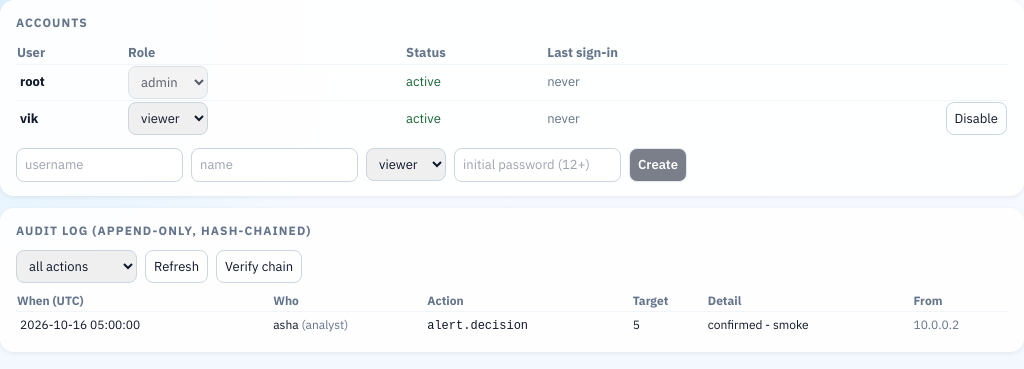
AdminPanel › lists accounts, creates one and reports a broken audit chain
Expected: the text "vik" is shown, [20,110,38,126]
Expected: the text "confirmed - smoke" is shown, [707,312,912,338]
Type "newbie" into the field named "New username". click: (100, 165)
box: [16,148,183,182]
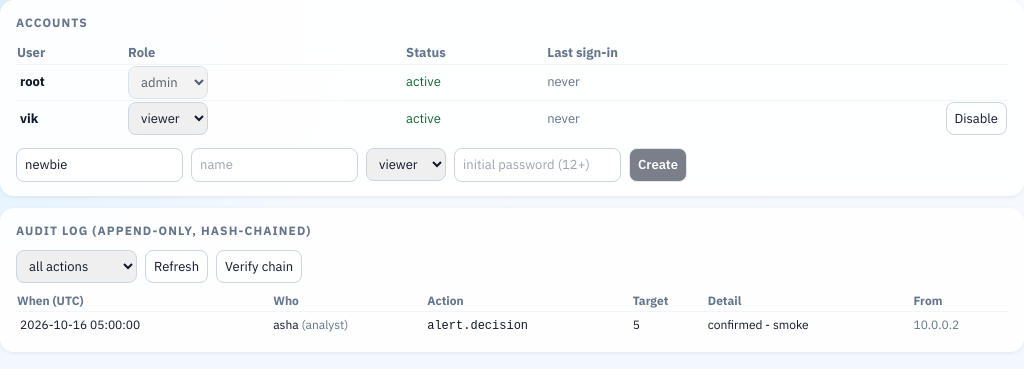
Type "Correct-Horse-Battery-9" into the password field labelled "initial password". click: (538, 165)
box: [454,148,621,182]
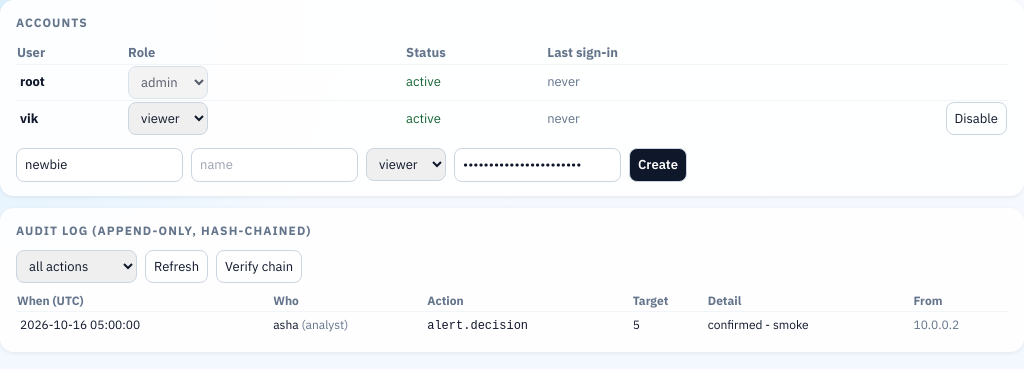
Click the button "Create". click: (658, 165)
box: [629,148,687,182]
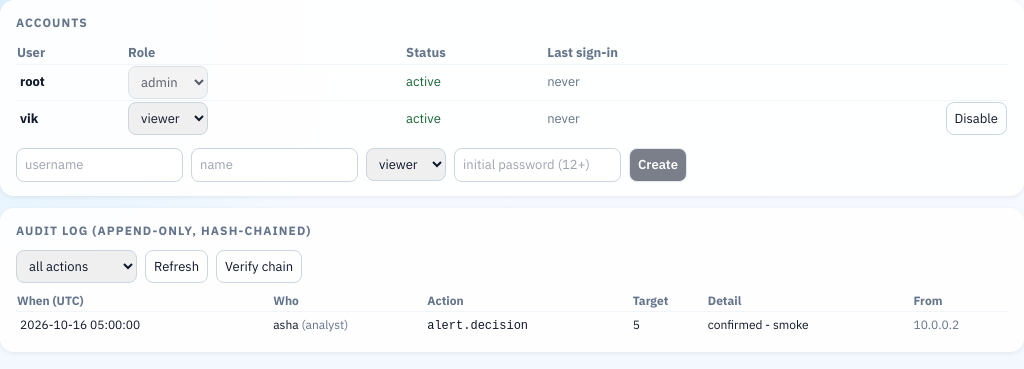
Click the button "Verify chain". click: (259, 266)
box: [216,250,302,283]
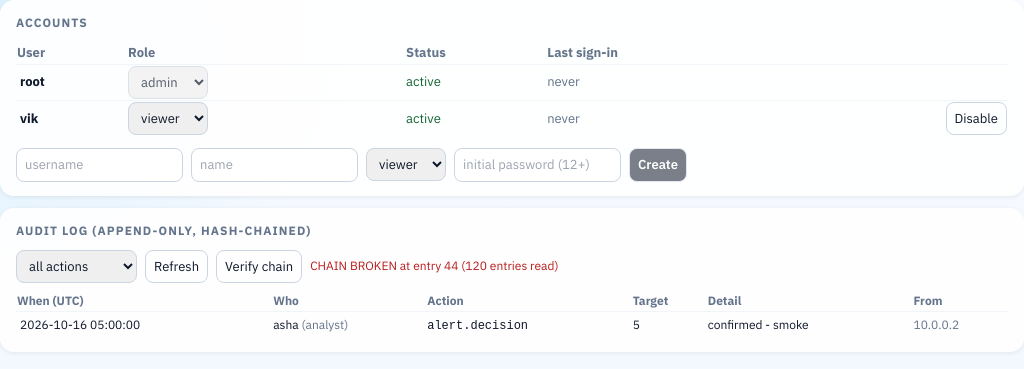
Now the message with test id "audit-verdict" reads "CHAIN BROKEN at entry 44 (120 entries read)", box [310,258,558,273]
